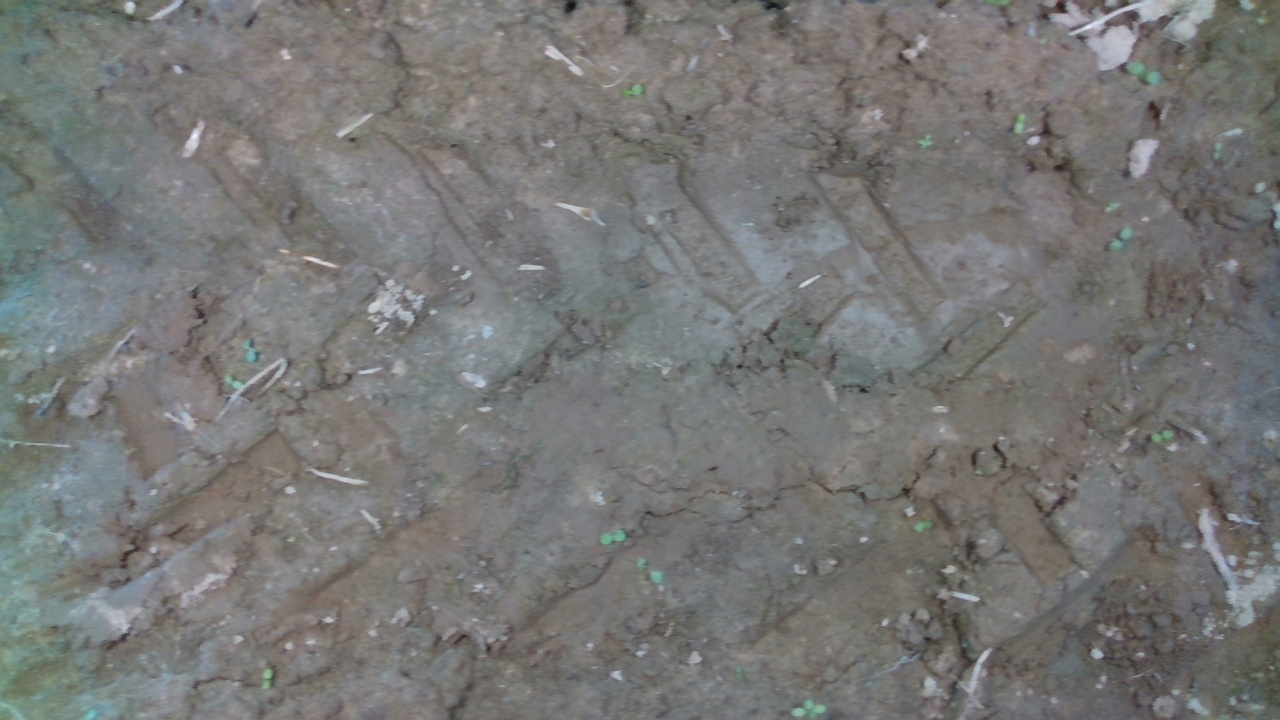weed: (1124, 60, 1163, 87), (1105, 226, 1133, 252), (791, 698, 827, 718), (598, 527, 626, 547), (242, 335, 258, 364), (259, 666, 274, 692), (1011, 111, 1027, 134), (1150, 428, 1173, 444), (917, 132, 934, 151), (1211, 141, 1223, 162), (1103, 201, 1121, 212)
